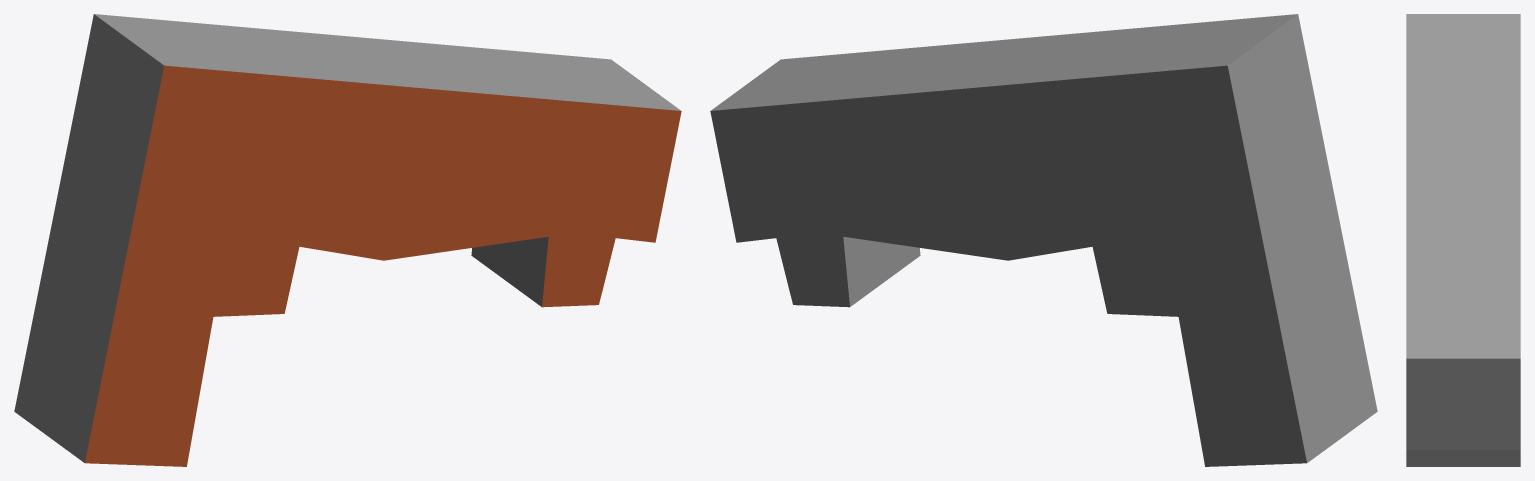
The model's file is construction_0651_assumed_A_Casa_h6m.obj.
3 renders of one model, left to right at view 1: azimuth 30°, elevation 25°; view 2: azimuth 150°, elevation 25°; view 3: azimuth 270°, elevation 25°, orthographic. The views are drawn at different scales.
Visible parts, largest first — view 1: construction_0651_assumed_A_Casa; view 2: construction_0651_assumed_A_Casa; view 3: construction_0651_assumed_A_Casa.
Part boxes in pixels (x1=…): construction_0651_assumed_A_Casa: x1=14, y1=14, x2=681, y2=466; construction_0651_assumed_A_Casa: x1=710, y1=14, x2=1377, y2=466; construction_0651_assumed_A_Casa: x1=1406, y1=14, x2=1520, y2=466.
Size of the model in its own units: 29.33 by 19.11 by 6.
